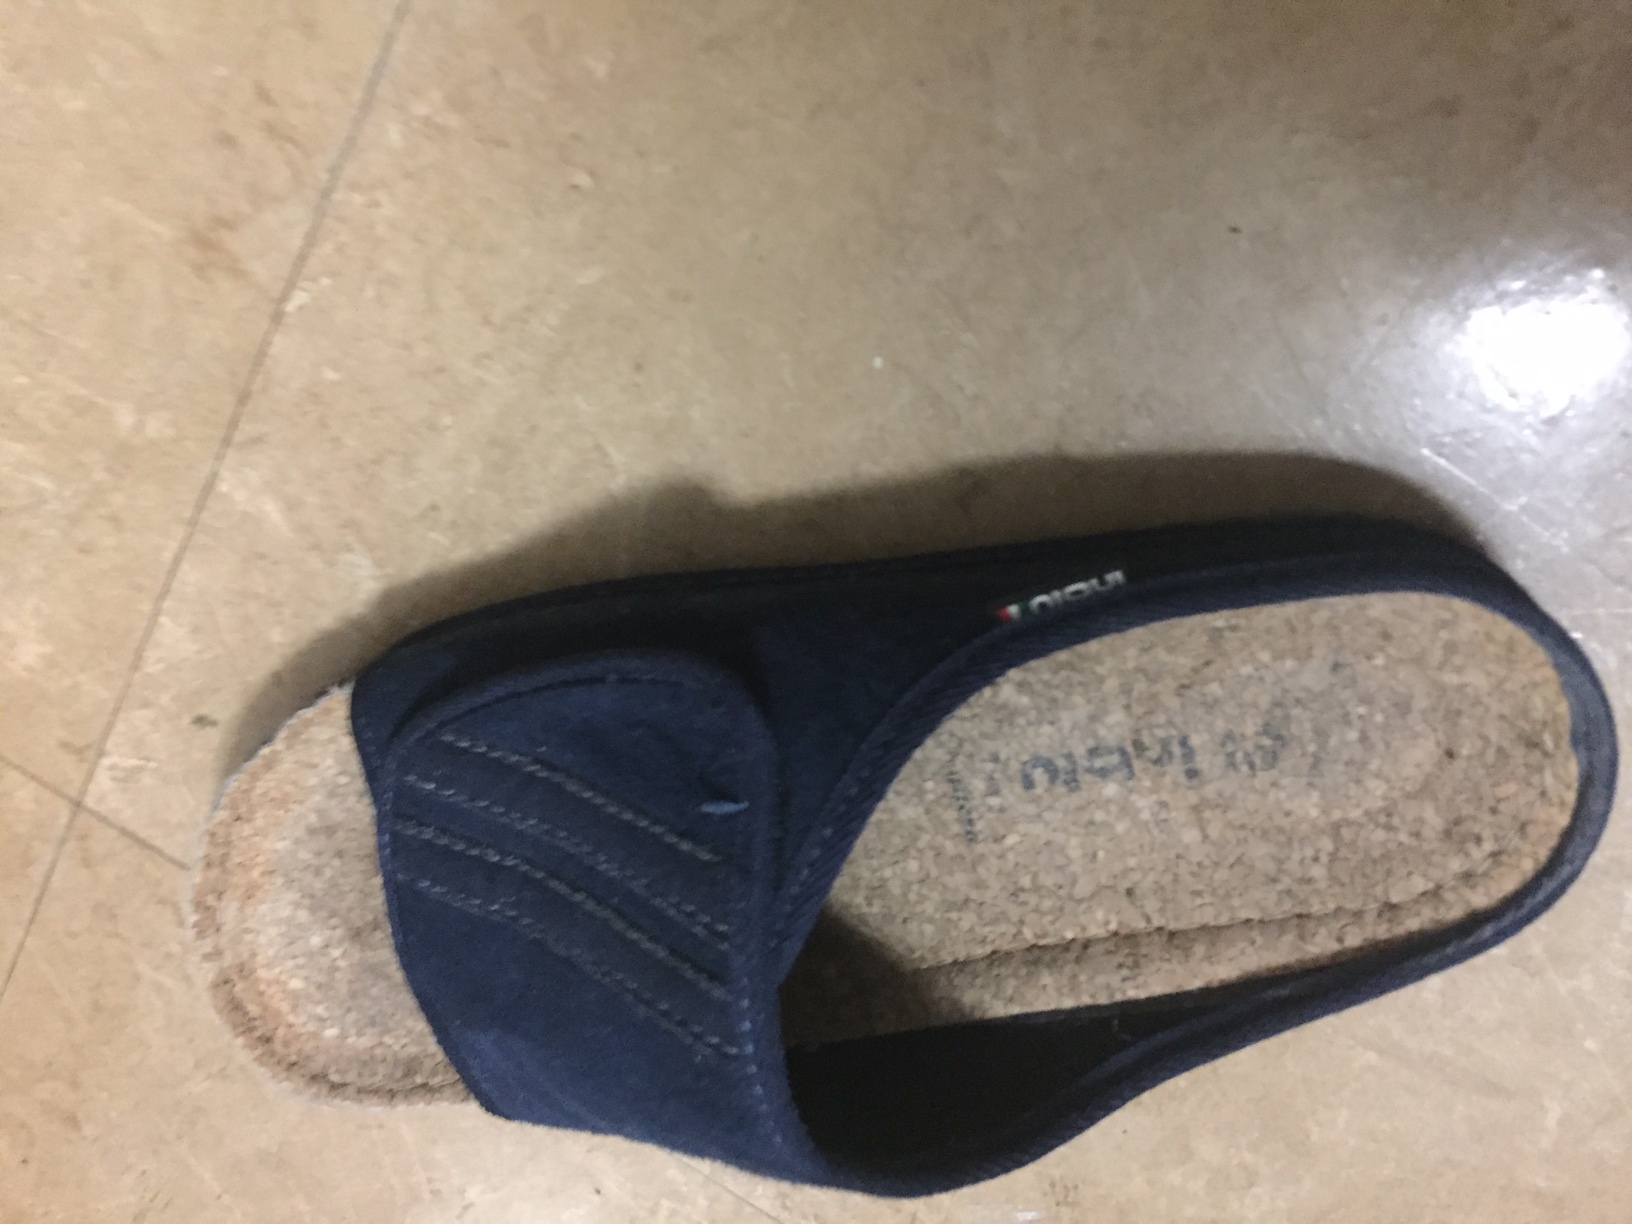car: (179, 512, 1620, 1202)
